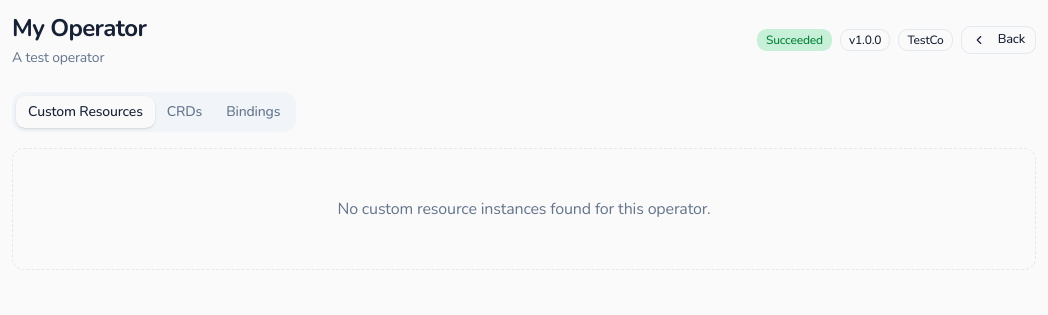
Scenario: OperatorDetailClient › shows binding creation form for admin users
Expected: the heading "My Operator" is shown, top-left (12, 12), bottom-right (146, 44)
What coordinates should you click on to do the following:
click the tab "Bindings"
I would click on:
 (253, 112)
Its box is top-left (214, 96), bottom-right (292, 128).
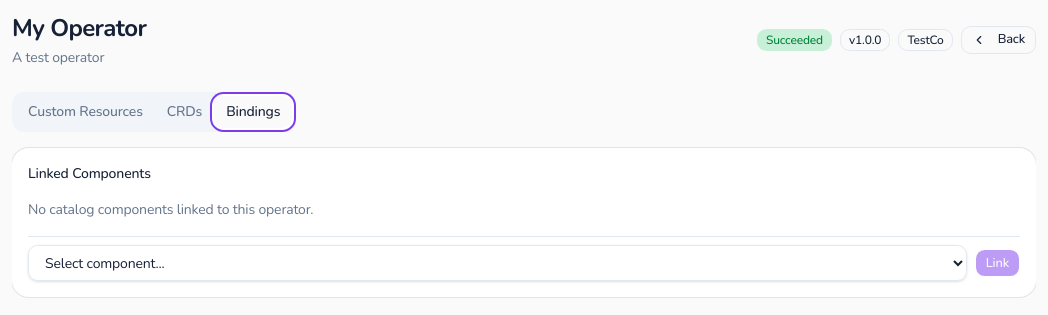
Now the dropdown showing "Select component..." is shown, box top-left (28, 245), bottom-right (967, 281)
Now the button "Link" is shown, box top-left (975, 249), bottom-right (1020, 277)
